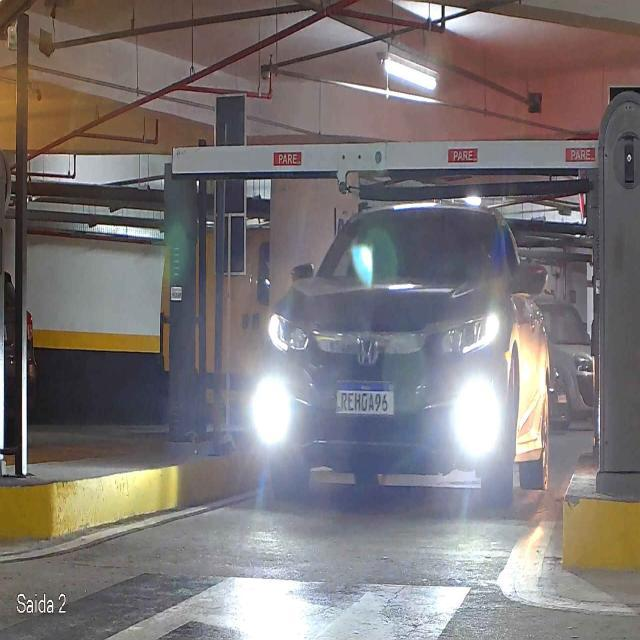mercosul_plate: (333, 381, 397, 417)
